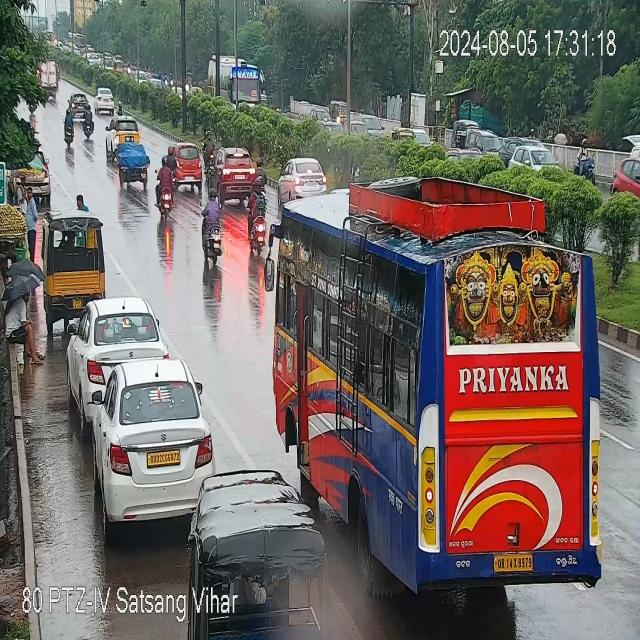2-wheelers: (203, 190, 225, 260), (248, 177, 266, 258), (153, 156, 174, 222), (62, 105, 76, 149), (83, 103, 93, 142), (167, 146, 177, 184), (118, 101, 122, 115)
auto: (41, 211, 104, 329)
bus: (271, 173, 611, 601), (210, 49, 269, 100)
car: (98, 345, 208, 532), (71, 297, 157, 414), (272, 152, 331, 208), (213, 143, 254, 206), (174, 138, 201, 190), (95, 88, 116, 116), (70, 90, 90, 116)
pedestrian: (5, 296, 39, 373), (26, 186, 37, 264), (72, 195, 90, 211)
truck: (30, 52, 60, 102)
